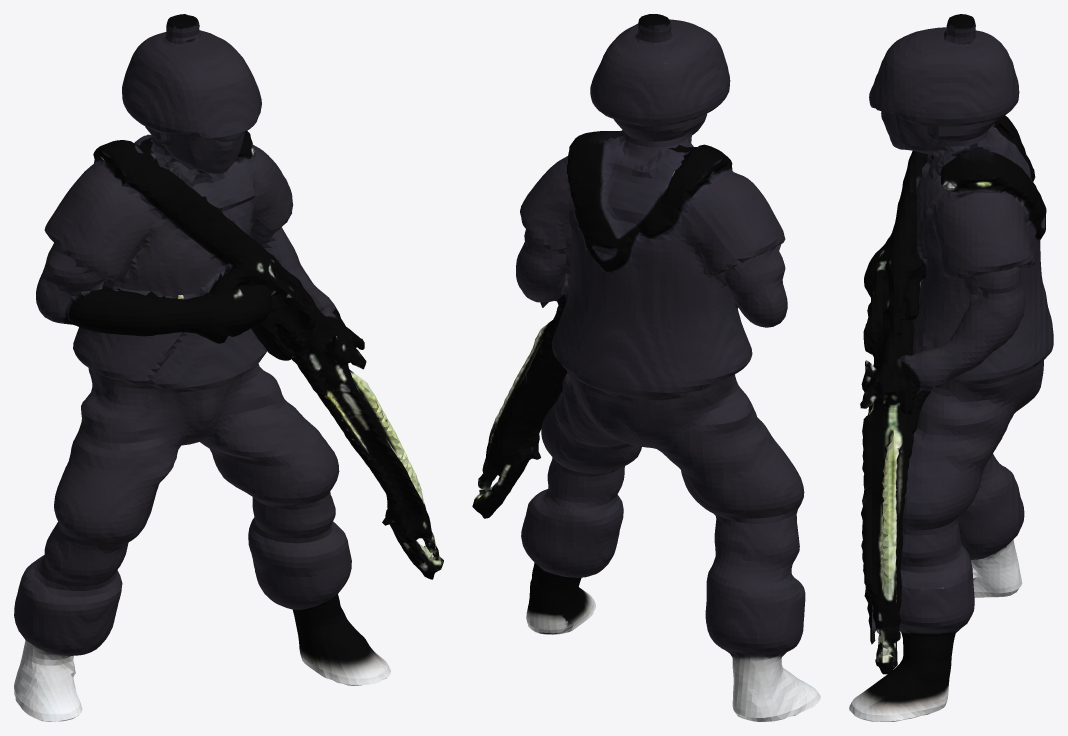
Rendered from soldier_toy1.glb.
3 views of the same model, side by side, from view 1: azimuth 30°, elevation 25°; view 2: azimuth 150°, elevation 25°; view 3: azimuth 270°, elevation 25° (orthographic). The views are drawn at different scales.
Parts seen in each view (by area): view 1: tmp8mzx0_hd.ply; view 2: tmp8mzx0_hd.ply; view 3: tmp8mzx0_hd.ply.
Part boxes in pixels (x1,y1,x2,y2): tmp8mzx0_hd.ply: (14,14,443,721); tmp8mzx0_hd.ply: (472,14,820,721); tmp8mzx0_hd.ply: (849,14,1053,721).
Size of the model in its own units: 1.18 by 1.96 by 0.5763.
Materials: 1 (1 with a texture image).
